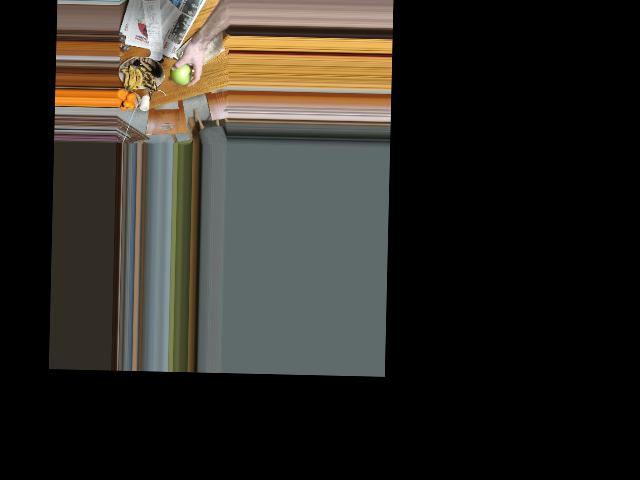apple: (174, 61, 191, 85)
